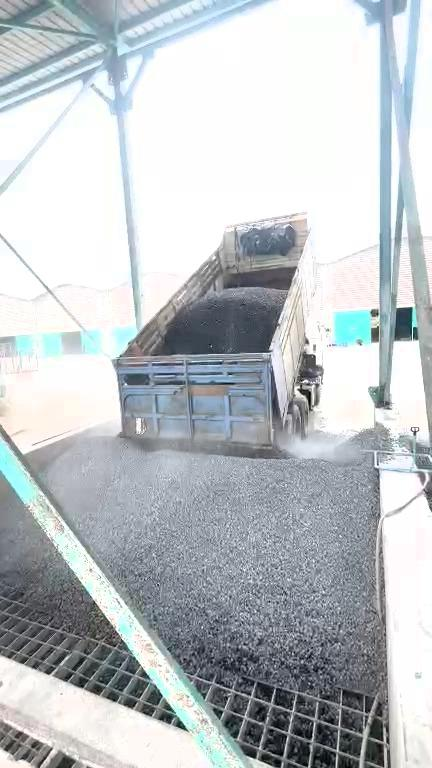gravel: (30, 409, 396, 695), (1, 480, 111, 637), (163, 287, 287, 353)
sand: (1, 400, 88, 445)
